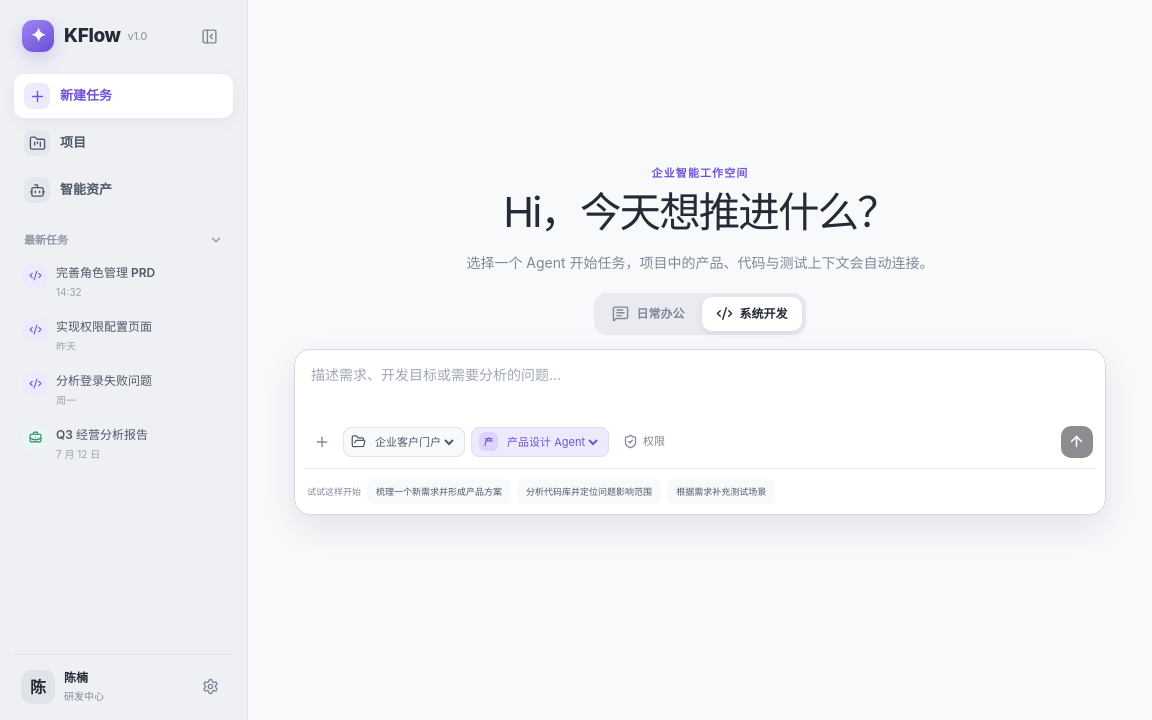
enterprise AI client demo › opens login-failure work with its own project, Agent, and conversation
What coordinates should you click on to do the following:
click the button with aria-label "开发任务：分析登录失败问题周一"
I would click on:
 (124, 390)
Its box is x1=14 y1=364 x2=233 y2=416.
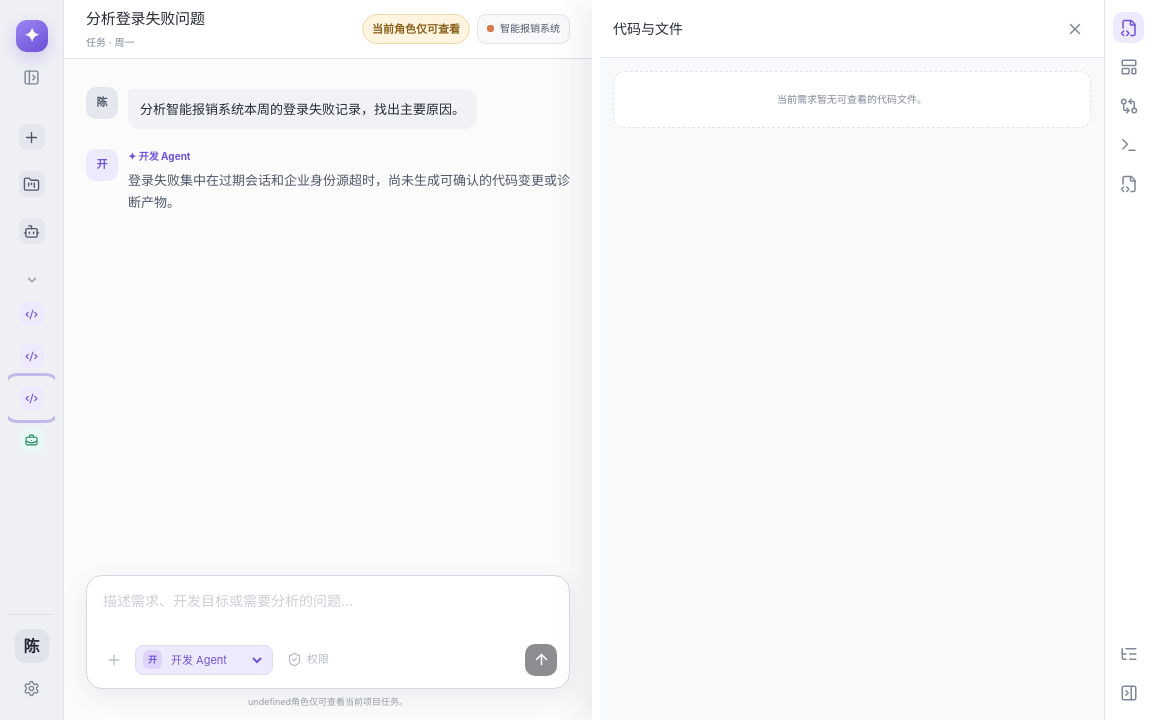
Now the heading "分析登录失败问题" is shown, box x1=86 y1=8 x2=205 y2=30
Now the text "任务 · 周一" is shown, box x1=86 y1=36 x2=134 y2=48
Now the text "智能报销系统" is shown, box x1=477 y1=14 x2=570 y2=44
